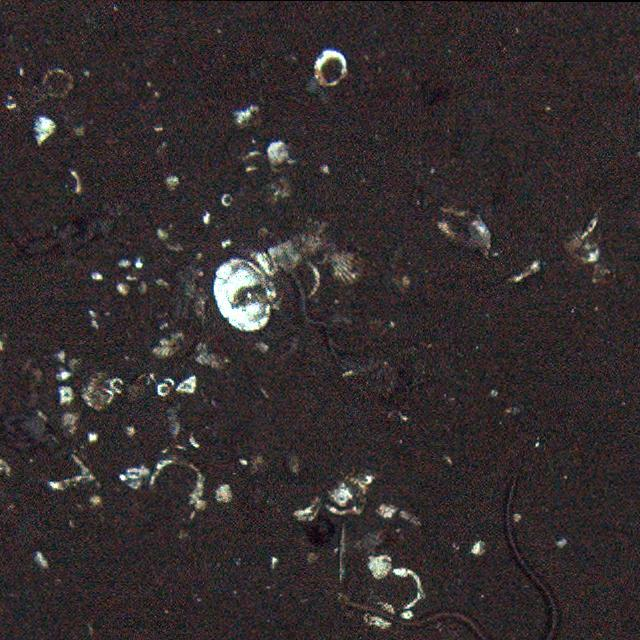eel: (340, 469, 558, 640)
